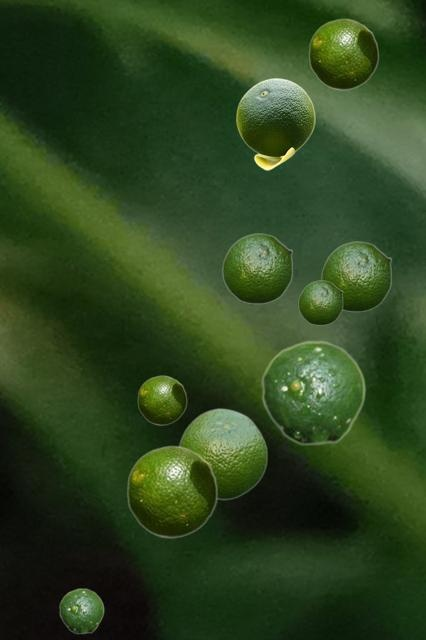calamansi: (261, 340, 365, 445), (126, 445, 217, 537), (178, 407, 267, 499), (236, 78, 314, 169), (308, 18, 378, 89), (321, 241, 391, 311), (222, 233, 292, 303), (137, 375, 186, 424), (59, 588, 103, 633), (298, 280, 342, 324)
